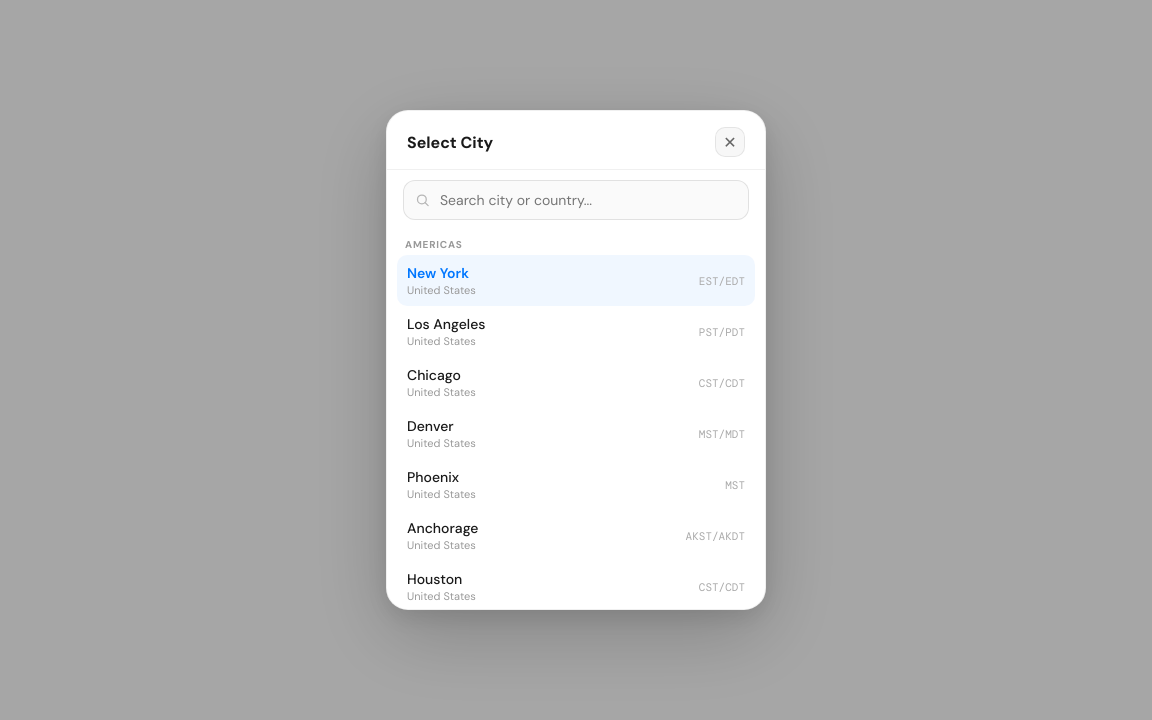
Test: TimezonePicker › filters cities by country name
Type "Japan" into the field with placeholder "Search city or country...".
click(576, 200); type("Japan")  # box [403,180,749,220]
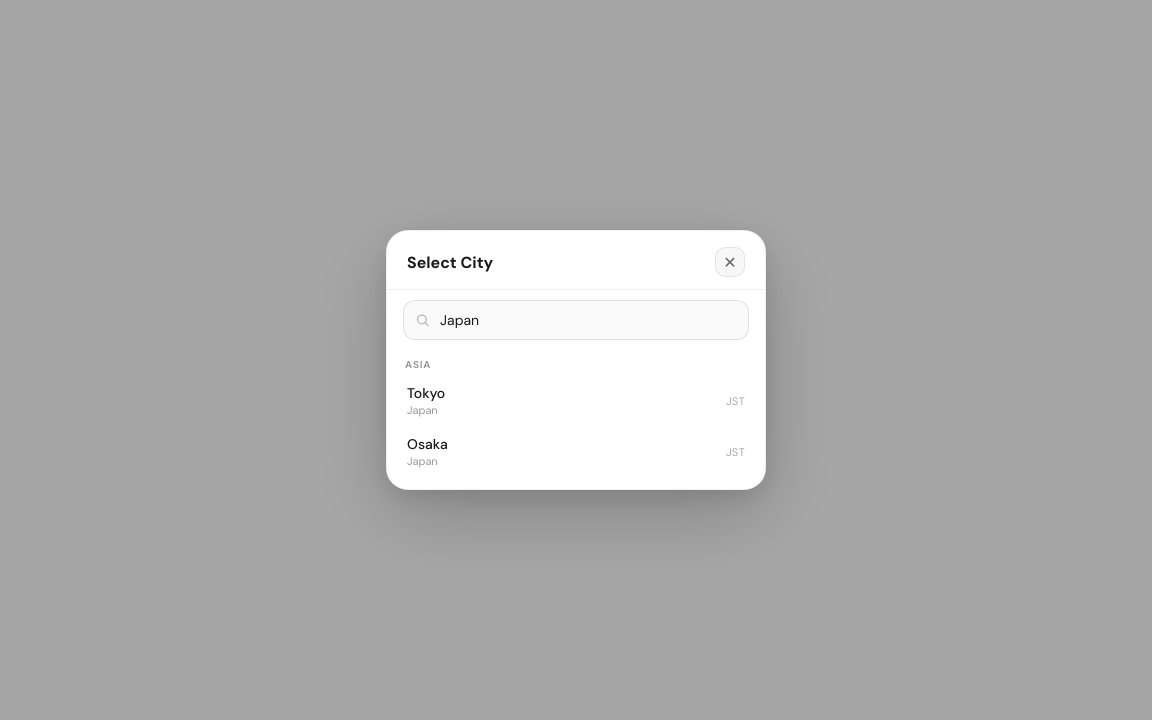
Expected: the text "Tokyo" is shown, [407,384,445,402]
Expected: the text "Osaka" is shown, [407,435,448,453]
